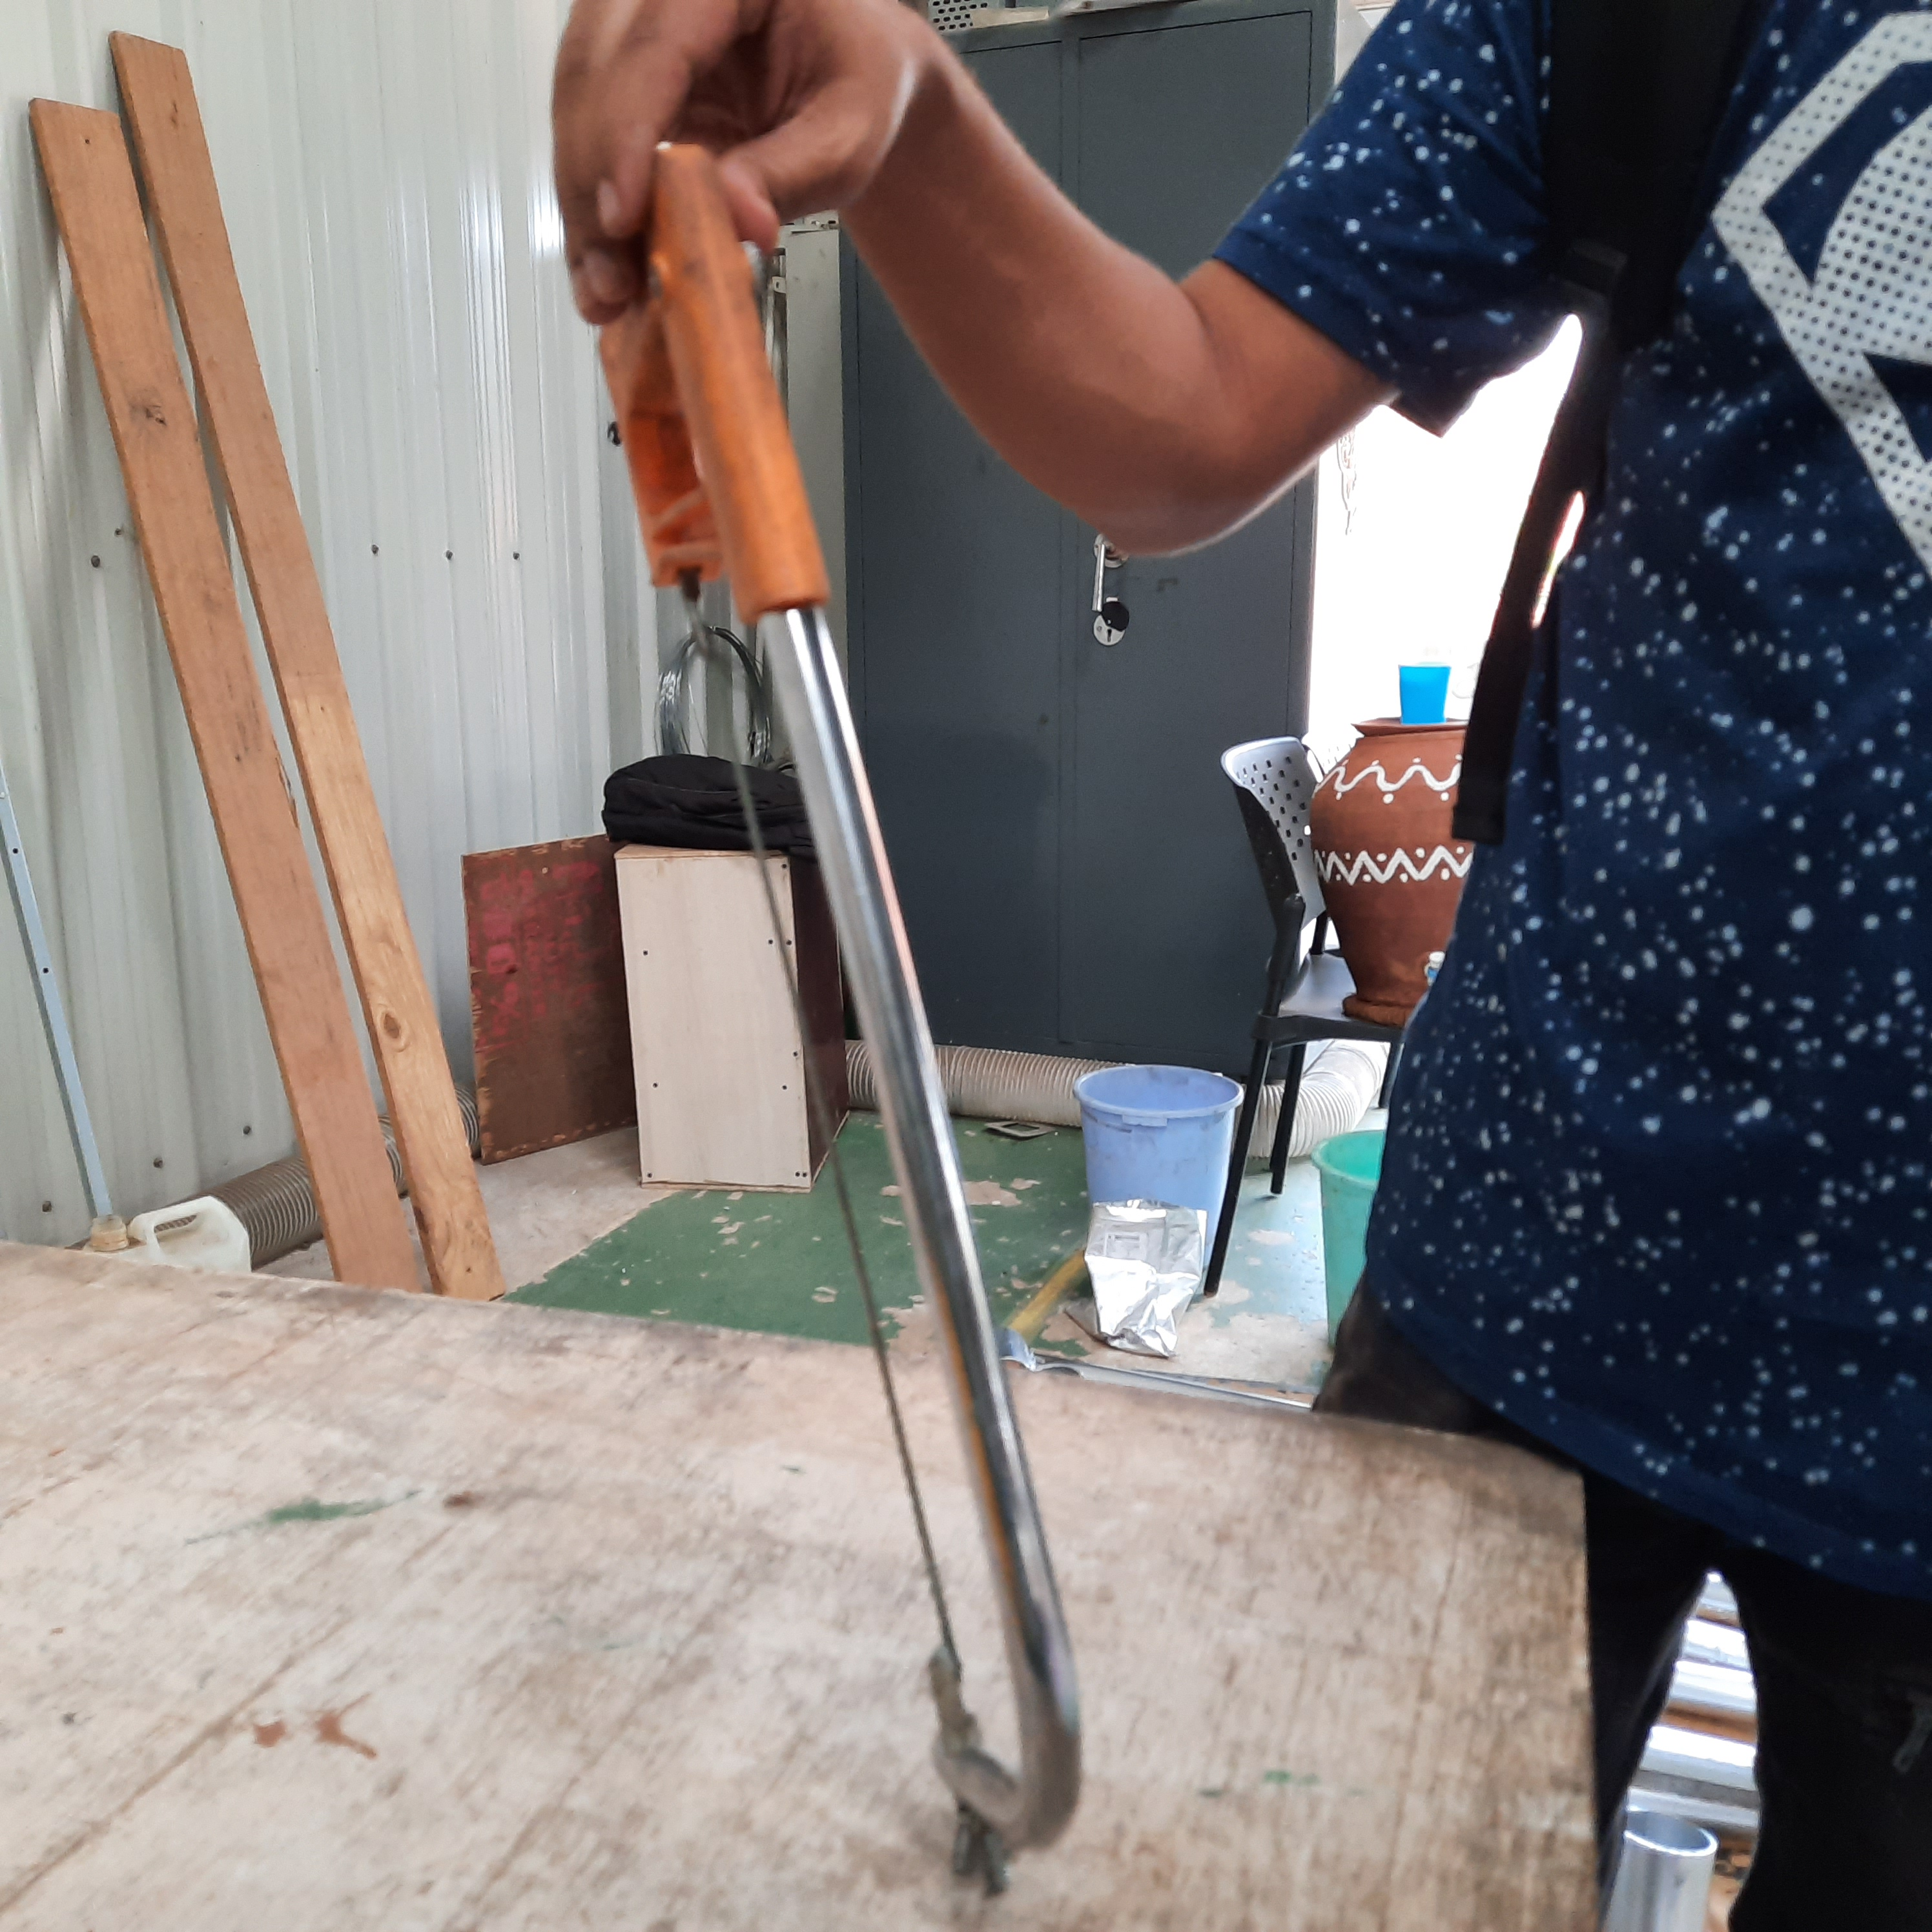Hexaframe: (538, 150, 1157, 1888)
